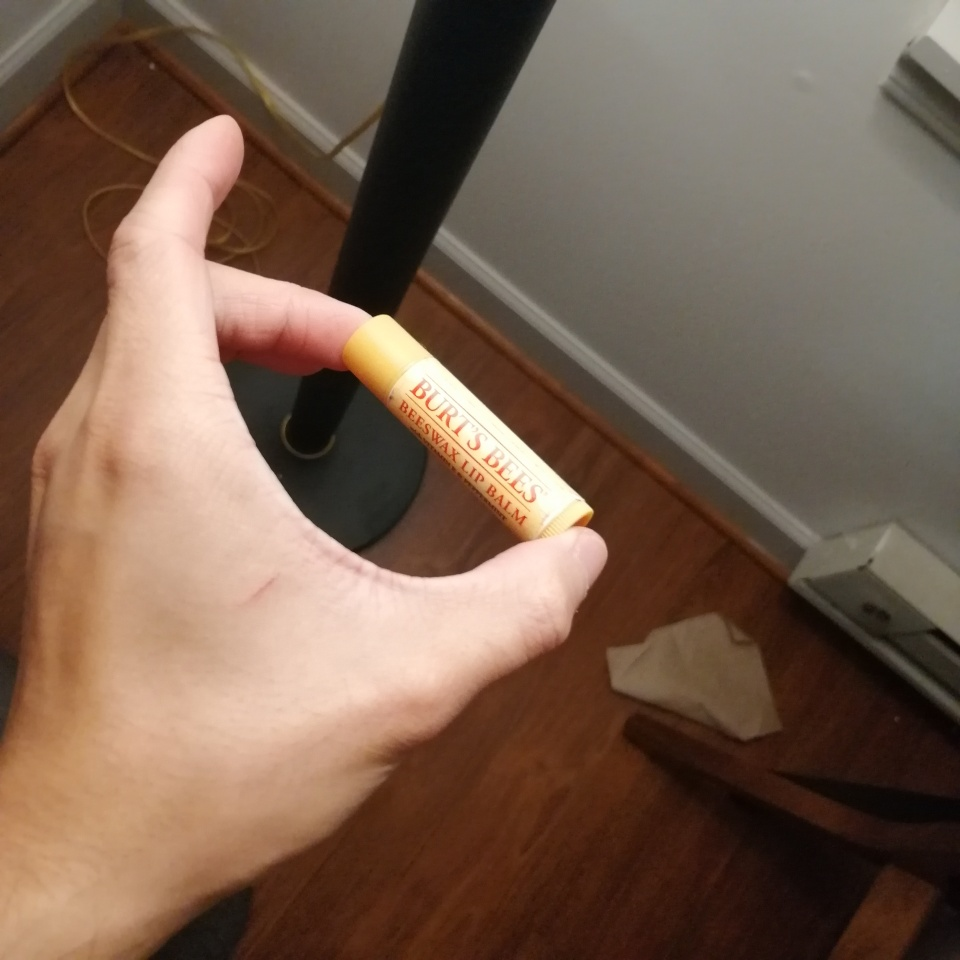chapstick: (342, 313, 595, 543)
